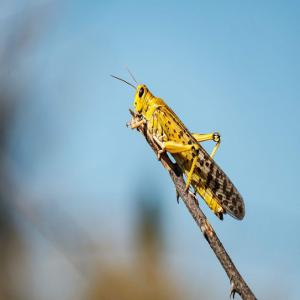locust: (127, 70, 247, 221)
